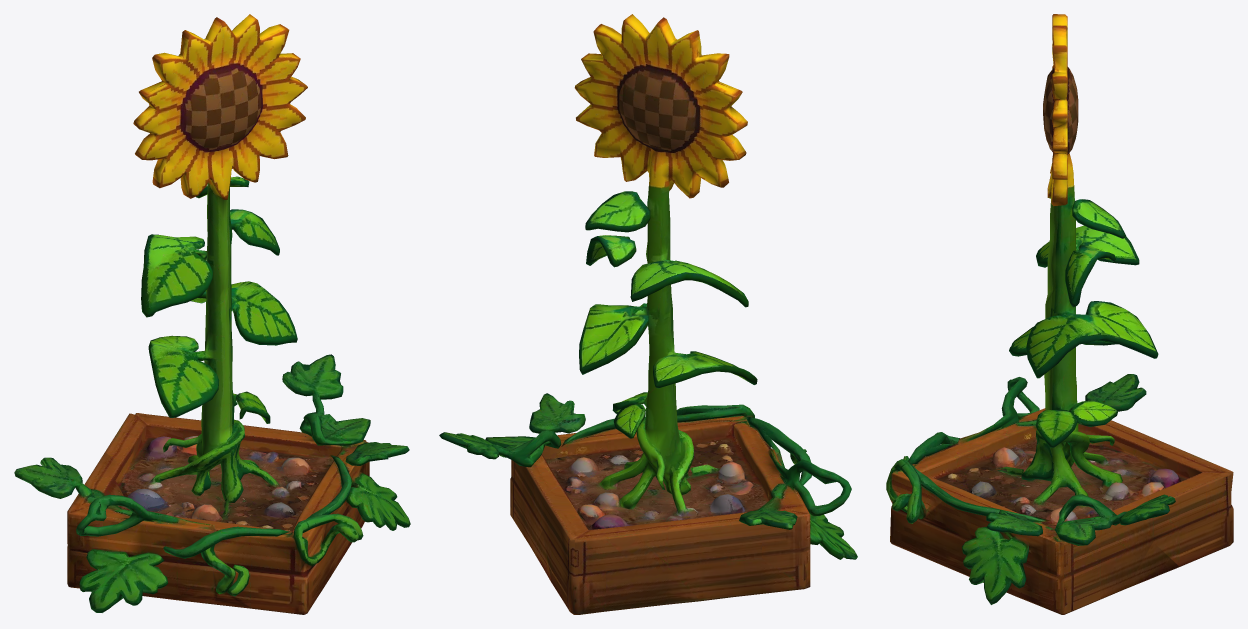
File: sunflower.glb
The picture shows the model from 3 angles, left to right: view 1: azimuth 30°, elevation 25°; view 2: azimuth 150°, elevation 25°; view 3: azimuth 270°, elevation 25°; orthographic projection. The views are drawn at different scales.
Bounding box in the file's own units: 1.26 × 1.91 × 1.15.
Materials: 1 (1 with a texture image).
